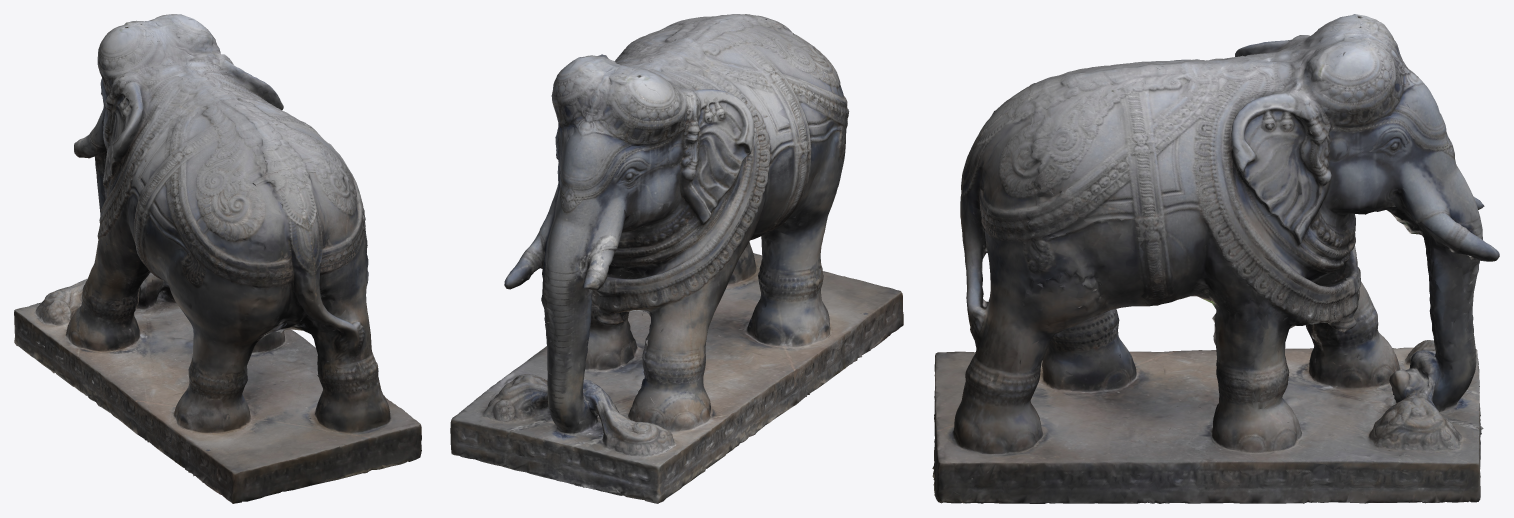
The model's file is dharmasthala_-_bahubali_elephant.glb.
3 views of the same model, side by side, from view 1: azimuth 30°, elevation 25°; view 2: azimuth 150°, elevation 25°; view 3: azimuth 270°, elevation 25° (orthographic). The views are drawn at different scales.
Visible parts, largest first — view 1: meshNode001_Material_u1_v1_0; view 2: meshNode001_Material_u1_v1_0; view 3: meshNode001_Material_u1_v1_0.
Boxes of the visible parts, <box> form: meshNode001_Material_u1_v1_0: <box>14,14,421,503</box>; meshNode001_Material_u1_v1_0: <box>450,14,903,503</box>; meshNode001_Material_u1_v1_0: <box>932,14,1499,503</box>.
Size of the model in its own units: 1.04 by 1.71 by 2.12.
Materials: 1 (1 with a texture image).
